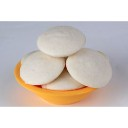idly: (66, 51, 116, 88), (18, 52, 66, 85), (36, 25, 86, 56)
